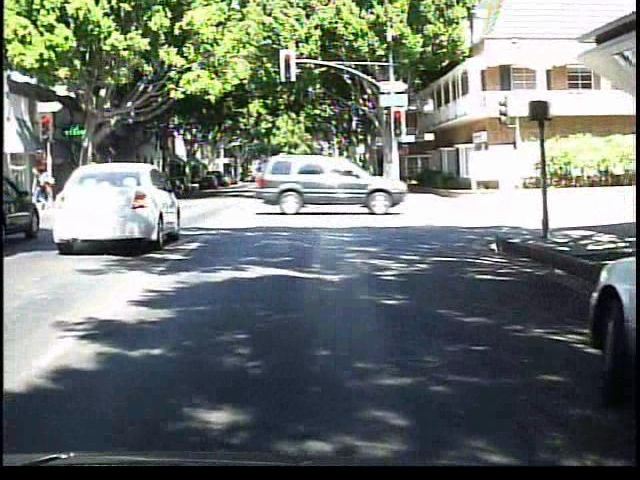person: (32, 164, 62, 208)
